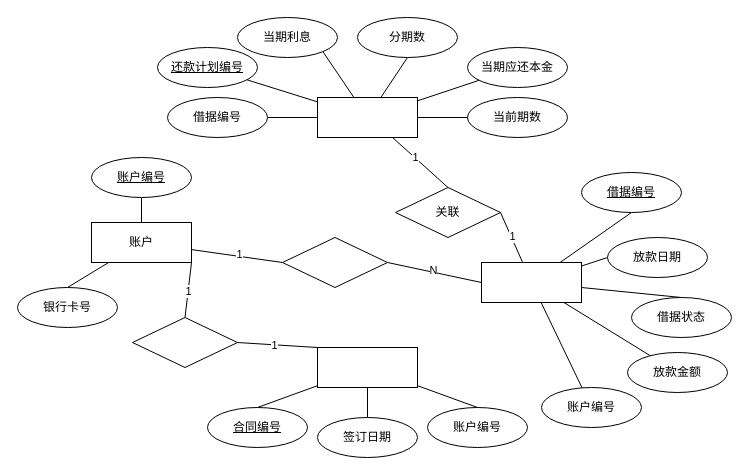
Image size: 749x475. Some labels were removed from this diagram. The centre of each missing label's shape, as x and y in pixels:
借据: pixel 531 282
借款: pixel 335 262
合同: pixel 367 367
签订: pixel 185 342
还款计划: pixel 367 117
